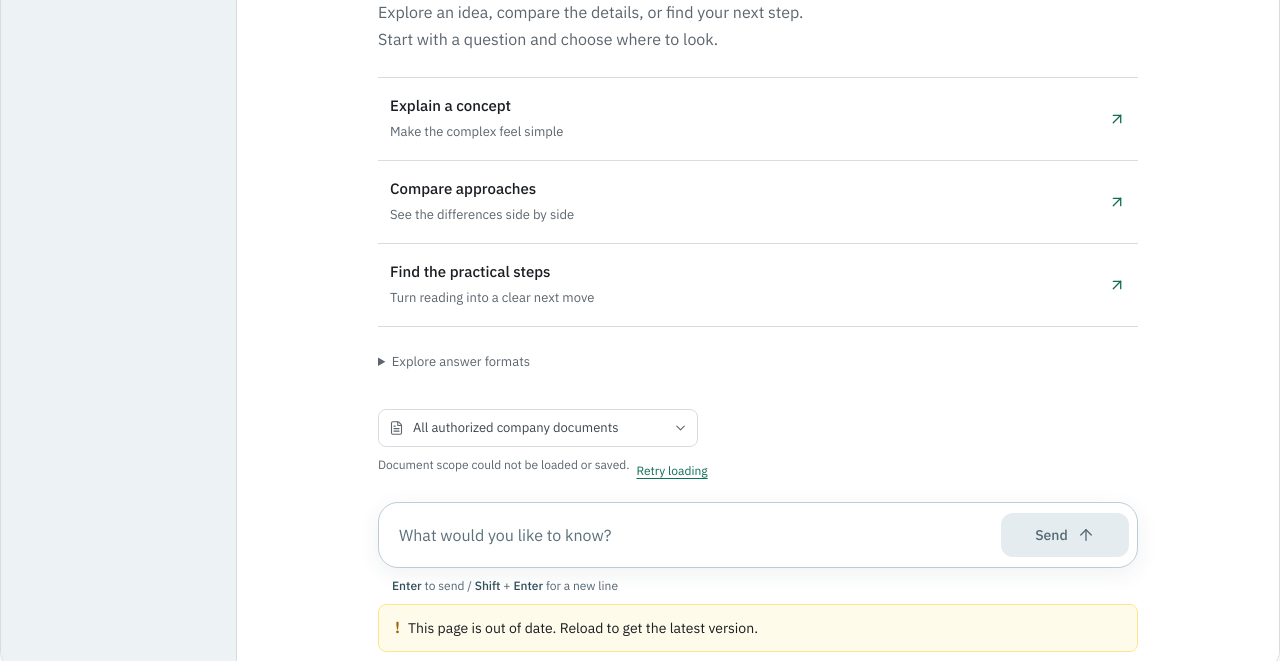
Test case: ChatApp Ask workspace › keeps format samples available on demand without sending
(page scrolled)
Click the heading "Explore answer formats" at (461, 362), box [392,353,530,370]
(page scrolled)
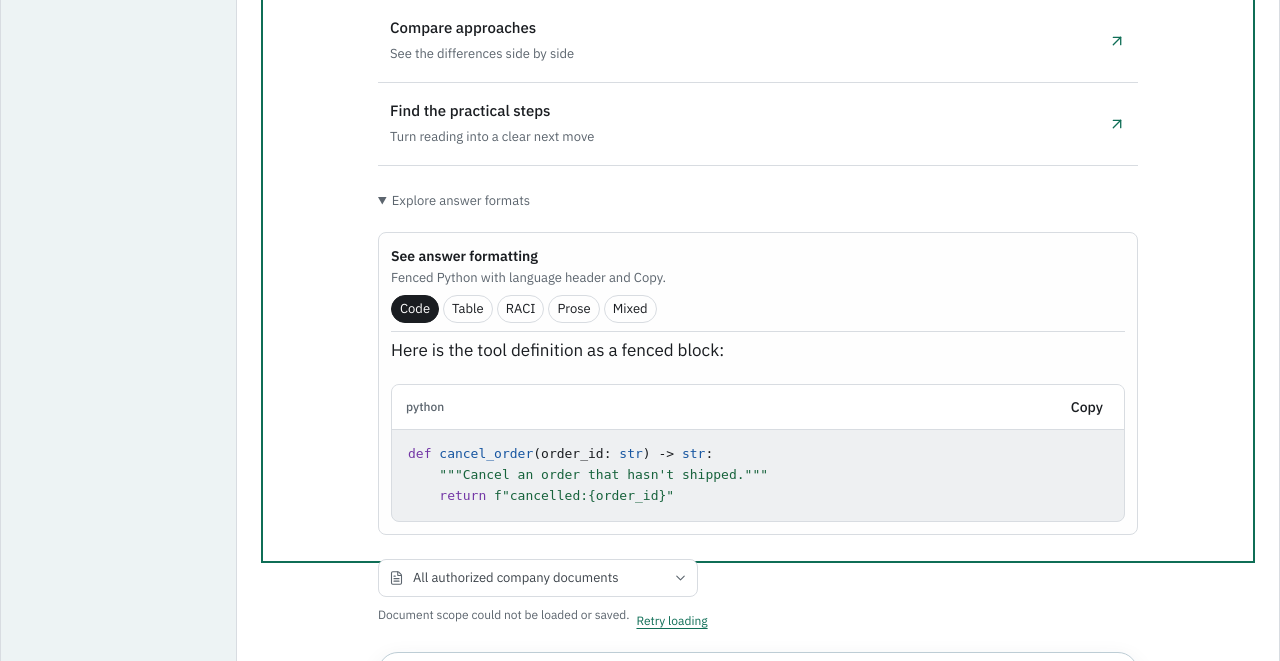
Result: the element with test id "answer-format-gallery" is shown at [378,232,1138,535]
